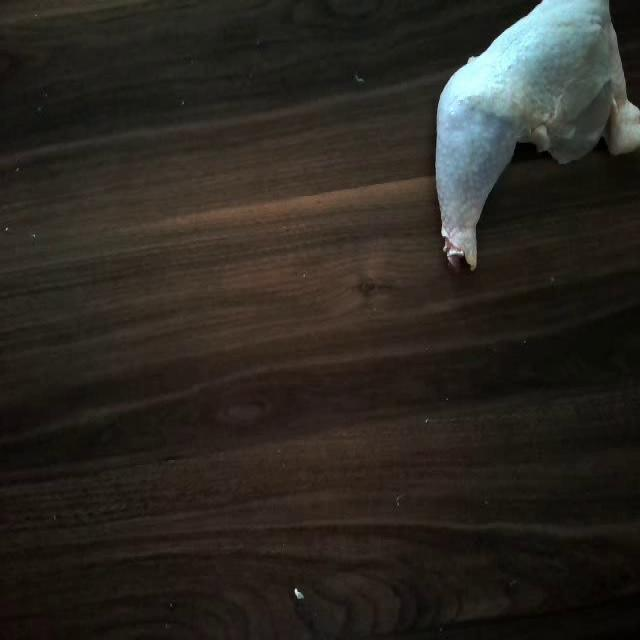quater: (424, 0, 638, 292)
